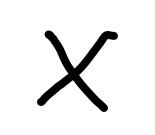mult: (38, 31, 119, 112)
